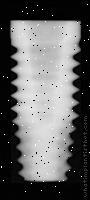Biomet 3i: (11, 20, 81, 183)
